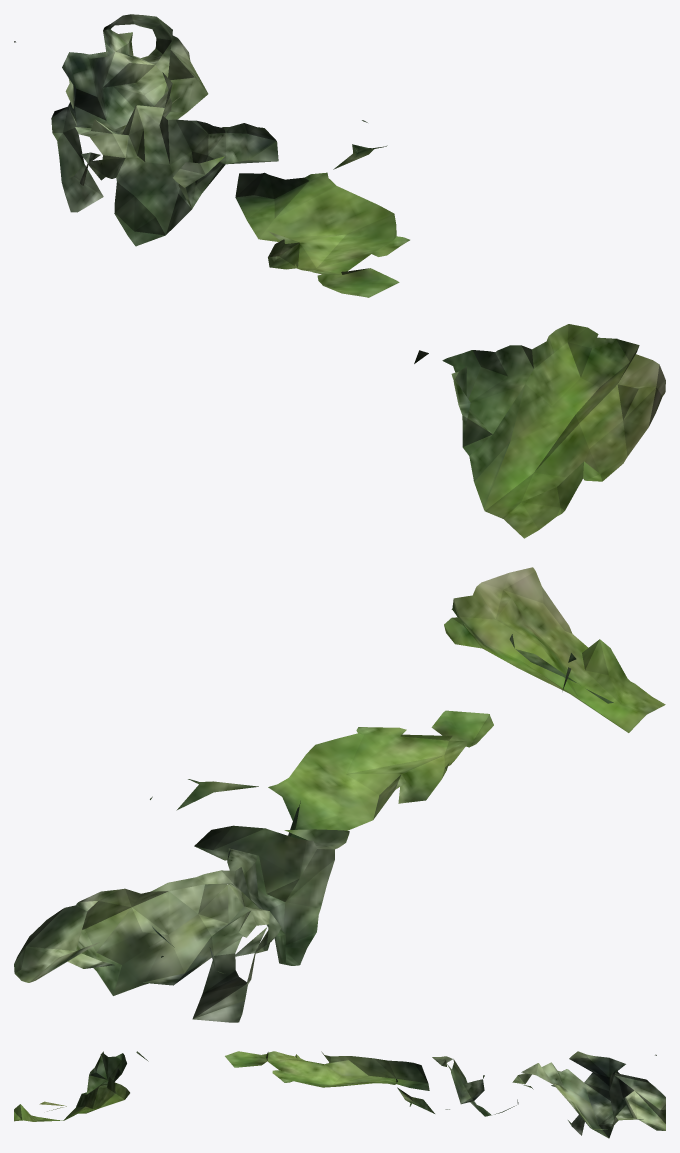
The picture shows the model from 3 angles, top to bottom: view 1: azimuth 30°, elevation 25°; view 2: azimuth 150°, elevation 25°; view 3: azimuth 270°, elevation 25°; orthographic projection. The views are drawn at different scales.
Bounding box in the file's own units: 44.28 × 25.89 × 209.
1 material, 1 textured.
